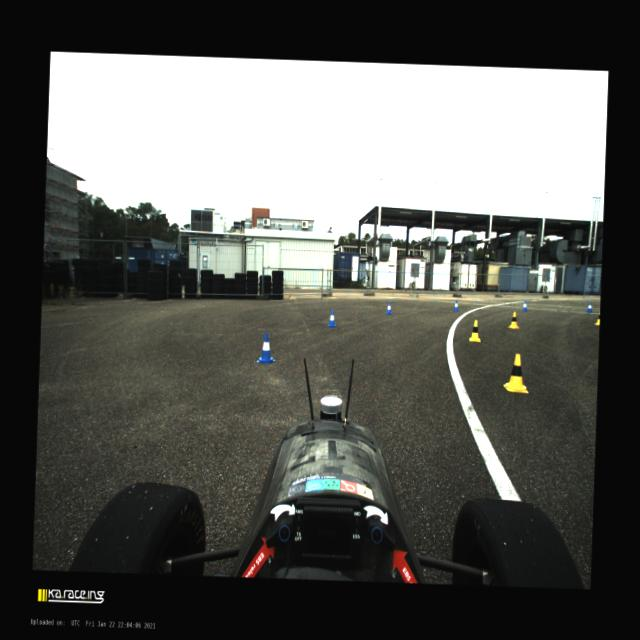blue_cone: (256, 332, 276, 364), (327, 310, 336, 328), (385, 302, 392, 314), (520, 300, 528, 310), (586, 302, 593, 312), (453, 300, 459, 310)
yellow_cone: (502, 354, 530, 394), (468, 319, 481, 342), (507, 310, 519, 328), (594, 311, 599, 325)
